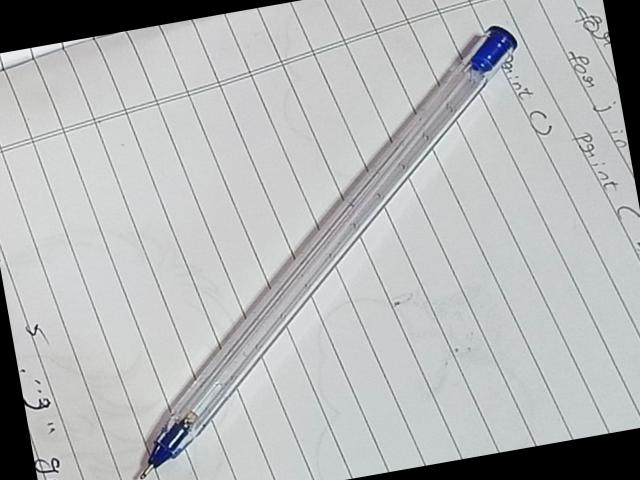PEN: (113, 6, 529, 480)
